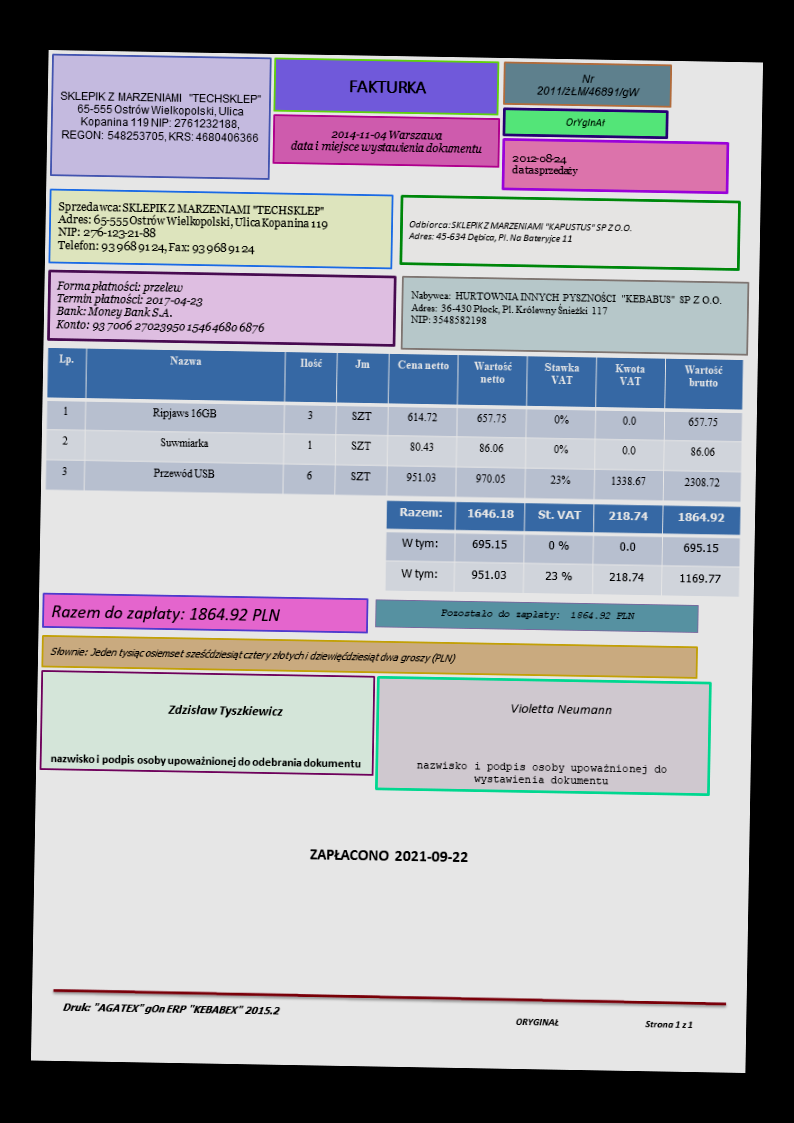Table: (43, 345, 744, 503), (383, 500, 741, 599)
TextBox: (54, 196, 331, 259), (406, 288, 723, 334), (53, 276, 269, 337), (56, 87, 262, 146), (47, 643, 458, 667), (413, 757, 673, 789), (405, 215, 632, 246), (46, 749, 364, 771), (47, 601, 282, 628), (288, 126, 485, 158), (59, 997, 284, 1020), (533, 69, 643, 102), (510, 1013, 697, 1032), (306, 845, 472, 866), (436, 605, 637, 622), (166, 698, 285, 720), (507, 150, 580, 181), (507, 699, 612, 719), (347, 77, 430, 98), (563, 115, 608, 131)
